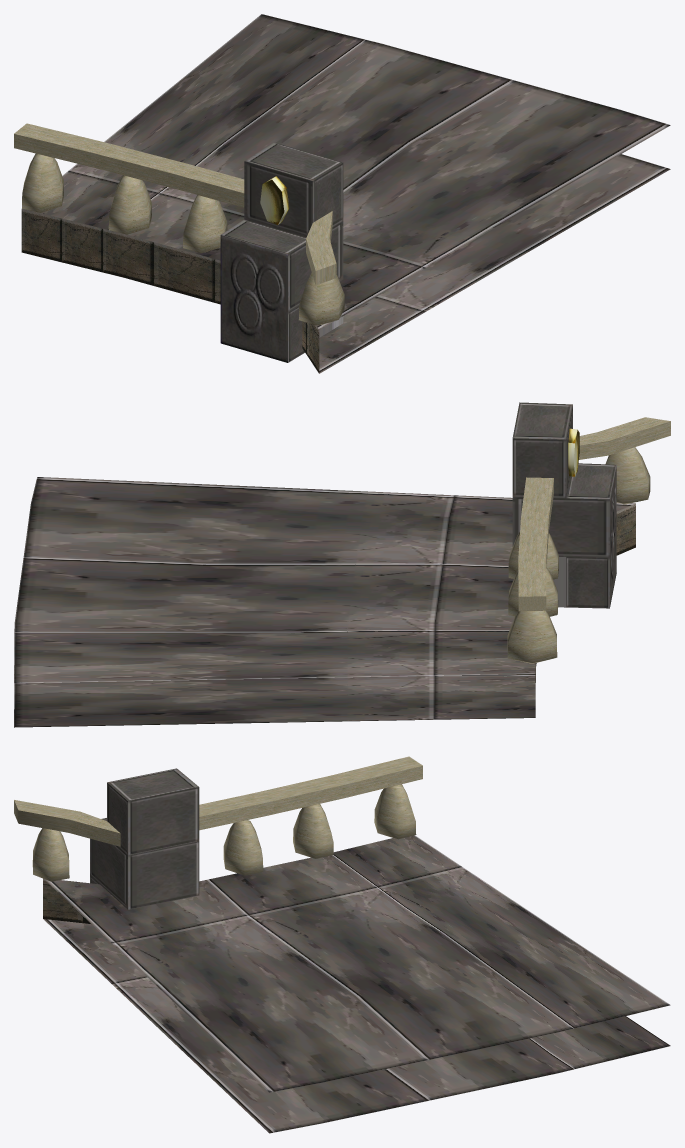
The model's file is CH09_SMAUG_PLAYSURFACE_LAIR30.fbx.
3 views of the same model, one above another, from view 1: azimuth 30°, elevation 25°; view 2: azimuth 150°, elevation 25°; view 3: azimuth 270°, elevation 25° (orthographic). The views are drawn at different scales.
Visible parts, largest first — view 1: CH09_SMAUG_PLAYSURFACE_LAIR30; view 2: CH09_SMAUG_PLAYSURFACE_LAIR30; view 3: CH09_SMAUG_PLAYSURFACE_LAIR30.
Boxes of the visible parts, left/top/right/bottom form: CH09_SMAUG_PLAYSURFACE_LAIR30: left=14, top=14, right=670, bottom=373; CH09_SMAUG_PLAYSURFACE_LAIR30: left=14, top=402, right=670, bottom=727; CH09_SMAUG_PLAYSURFACE_LAIR30: left=14, top=756, right=670, bottom=1133.
Bounding box in the file's own units: 84870 × 23218 × 89178.
5 materials, 5 textured.
